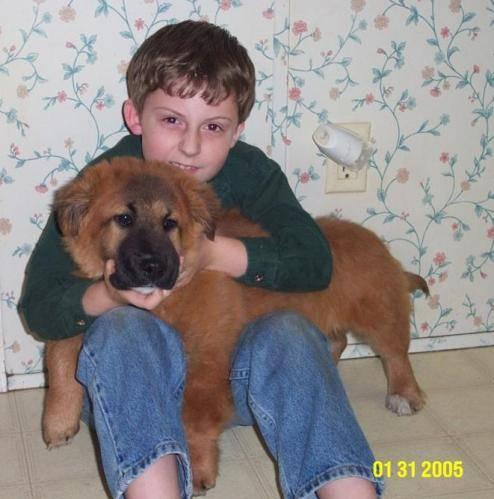dog: (51, 157, 219, 295)
